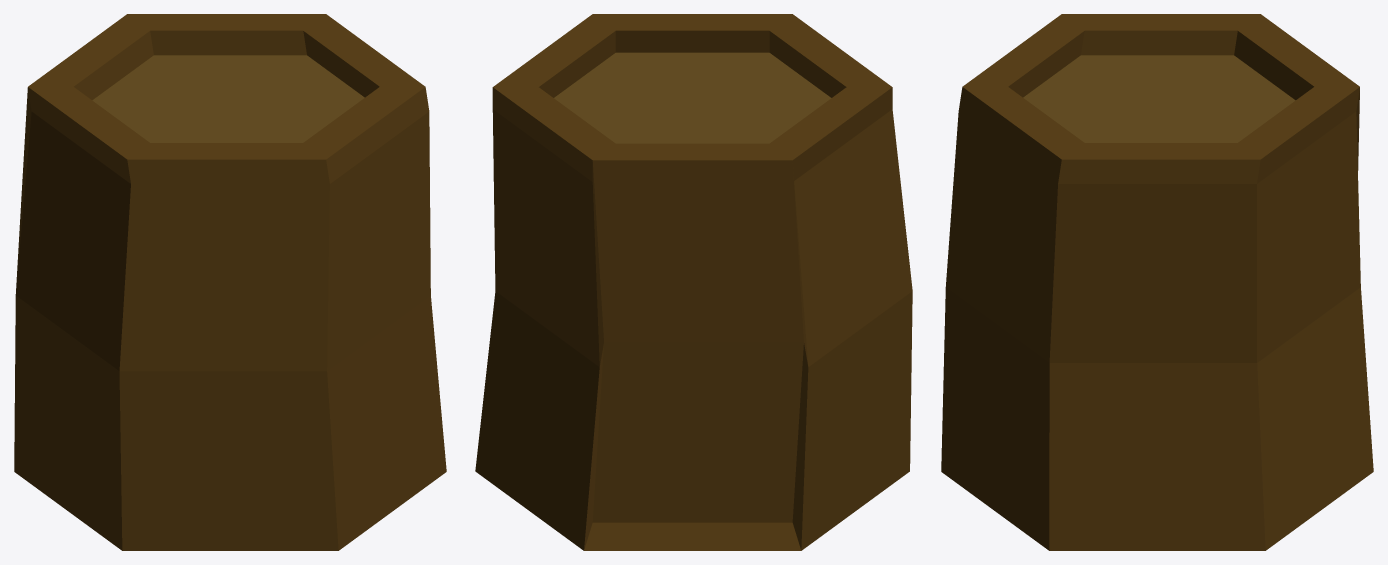
Rendered from treepart.fbx.
The picture shows the model from 3 angles, left to right: view 1: azimuth 30°, elevation 25°; view 2: azimuth 150°, elevation 25°; view 3: azimuth 270°, elevation 25°; orthographic projection.
Visible parts, largest first — view 1: Baumstumpf; view 2: Baumstumpf; view 3: Baumstumpf.
Part boxes in pixels (x1,y1,x2,y2): Baumstumpf: (14, 14, 446, 550); Baumstumpf: (475, 14, 912, 550); Baumstumpf: (941, 14, 1373, 550).
Size of the model in its own units: 54.88 by 61.58 by 62.84.
